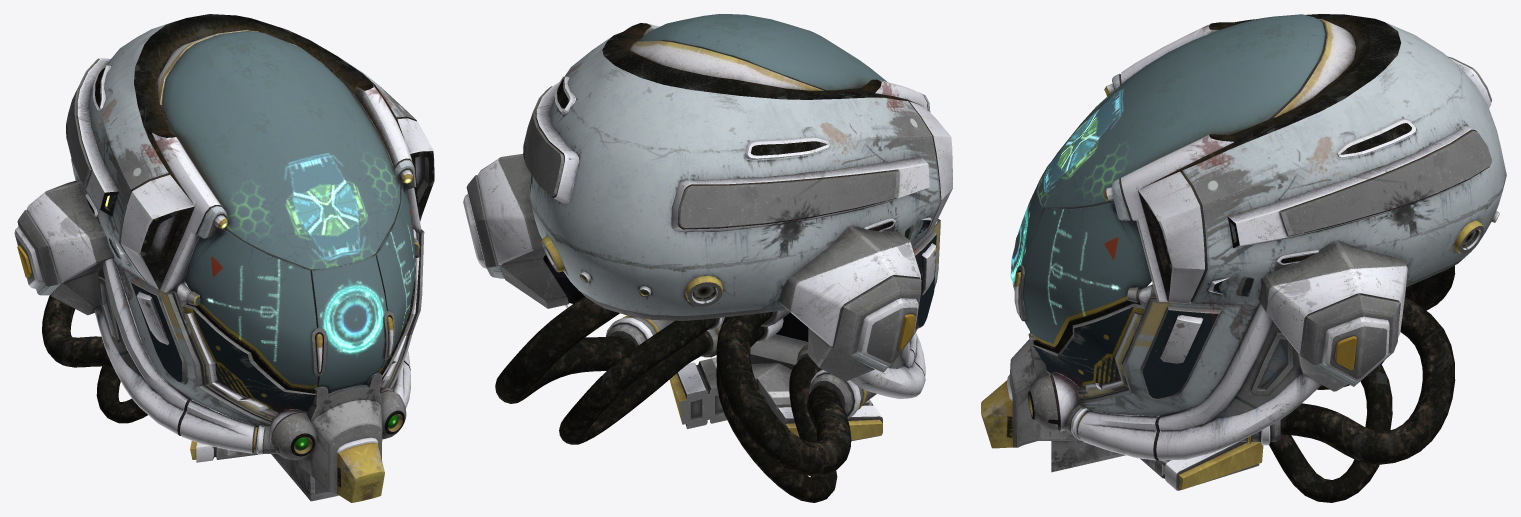
The model's file is DamagedHelmet.gltf.
3 views of the same model, side by side, from view 1: azimuth 30°, elevation 25°; view 2: azimuth 150°, elevation 25°; view 3: azimuth 270°, elevation 25° (orthographic). The views are drawn at different scales.
Visible parts, largest first — view 1: node_damagedHelmet_-6514; view 2: node_damagedHelmet_-6514; view 3: node_damagedHelmet_-6514.
Part boxes in pixels (box(x1,y1,x2,y2)): node_damagedHelmet_-6514: box(14, 14, 434, 502); node_damagedHelmet_-6514: box(463, 14, 952, 502); node_damagedHelmet_-6514: box(981, 14, 1506, 502).
Bounding box in the file's own units: 1.89 × 1.8 × 2.
1 material, 1 textured.
